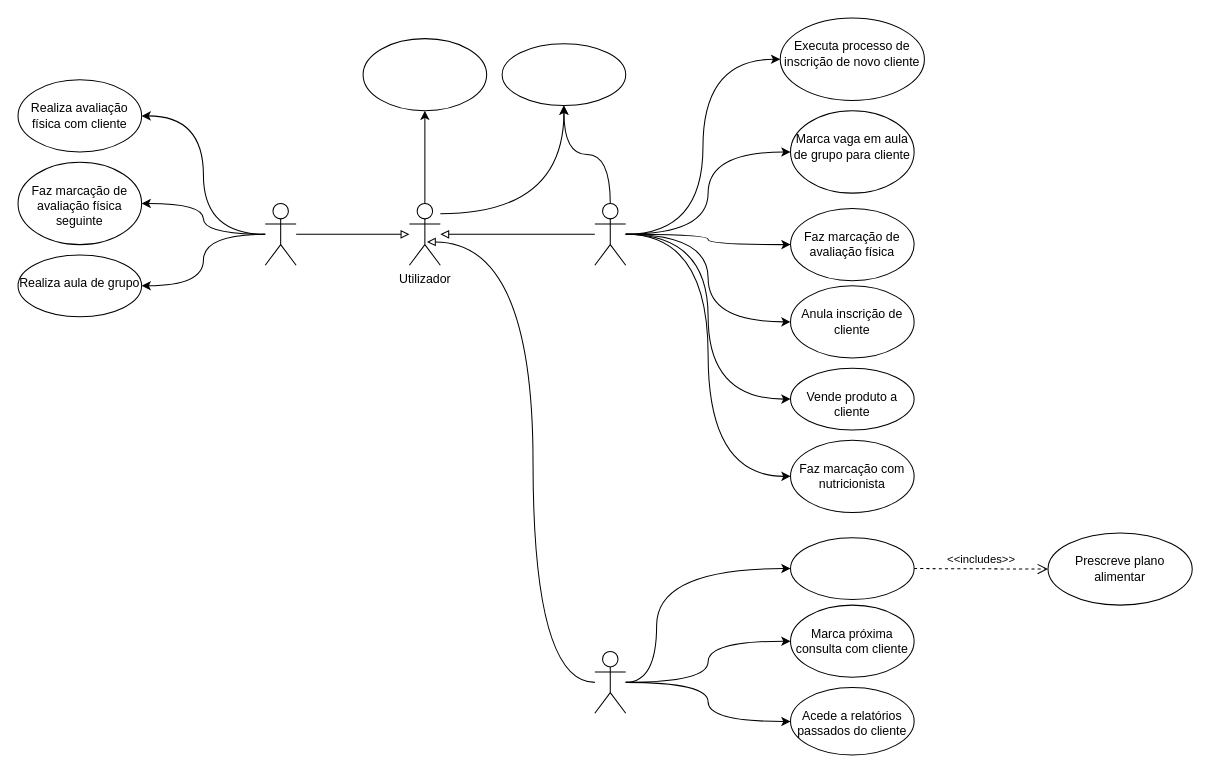
The diagram is 1210 pixels wide and 774 high, and some of its shapes have lost their labels. Each missing label, with the centre of its shape:
"Acede dados de cliente" goes at point 424,74.
"Faz log in na base de dados" goes at point 563,74.
"Instrutor" goes at point 280,233.
"Nutricionista" goes at point 610,681.
"Realiza consulta com cliente" goes at point 851,568.
"Recepcionista" goes at point 610,233.
